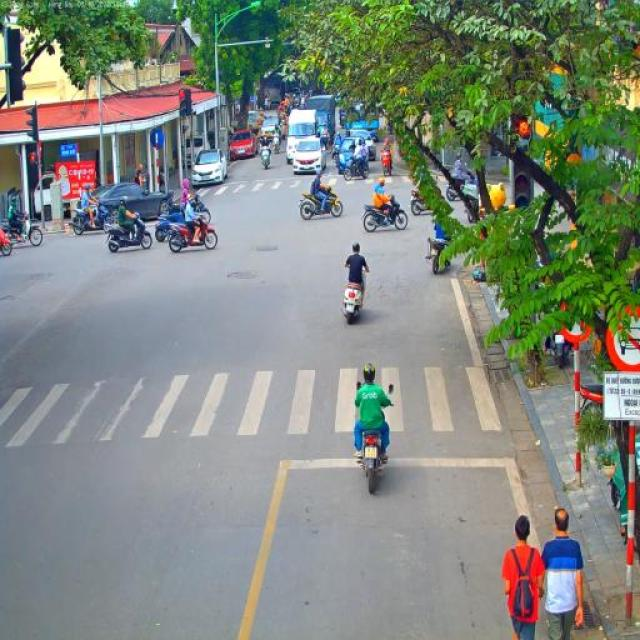car: (89, 181, 173, 224), (191, 149, 228, 187), (292, 136, 328, 175), (336, 135, 370, 175), (348, 128, 377, 162), (229, 130, 256, 160), (260, 119, 279, 139)
motorcycle: (354, 382, 394, 492), (155, 189, 211, 242), (168, 212, 220, 253), (104, 212, 154, 253), (362, 195, 408, 233), (298, 183, 344, 221), (340, 266, 368, 324), (69, 199, 110, 237), (0, 212, 44, 246), (543, 326, 572, 370), (424, 237, 454, 276), (410, 180, 436, 216), (344, 150, 370, 182), (464, 182, 484, 222), (446, 175, 473, 203), (580, 384, 604, 414), (0, 225, 12, 259), (380, 152, 394, 176), (259, 146, 272, 170), (318, 134, 332, 152), (270, 134, 282, 155), (331, 144, 342, 165), (159, 166, 166, 190), (263, 100, 269, 110)
truck: (284, 108, 322, 164), (306, 94, 340, 137), (346, 100, 380, 140), (33, 172, 56, 222)
